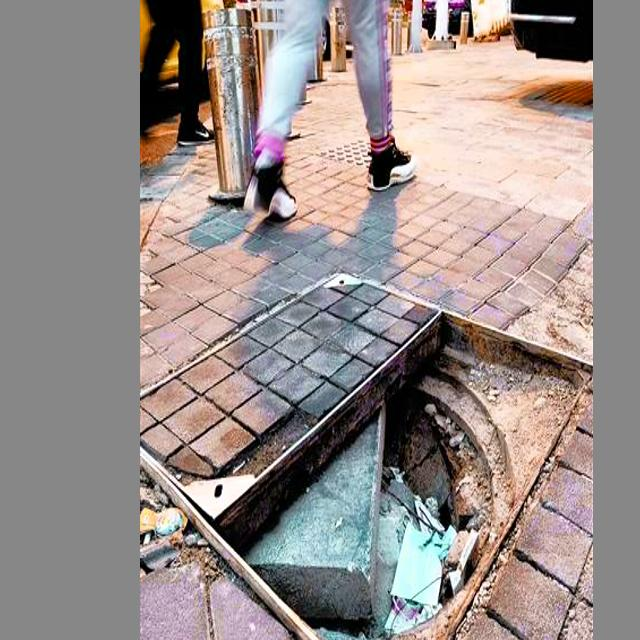lose: (149, 268, 583, 640)
